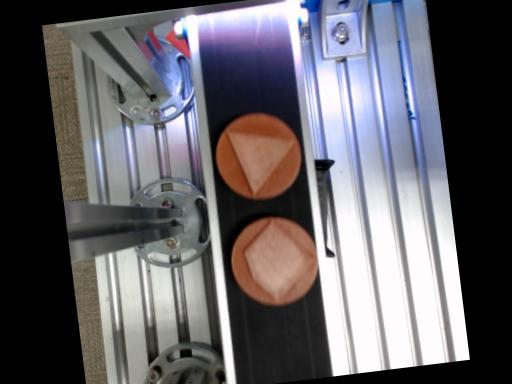Brown_Waper: (231, 215, 318, 304), (216, 112, 301, 198)
